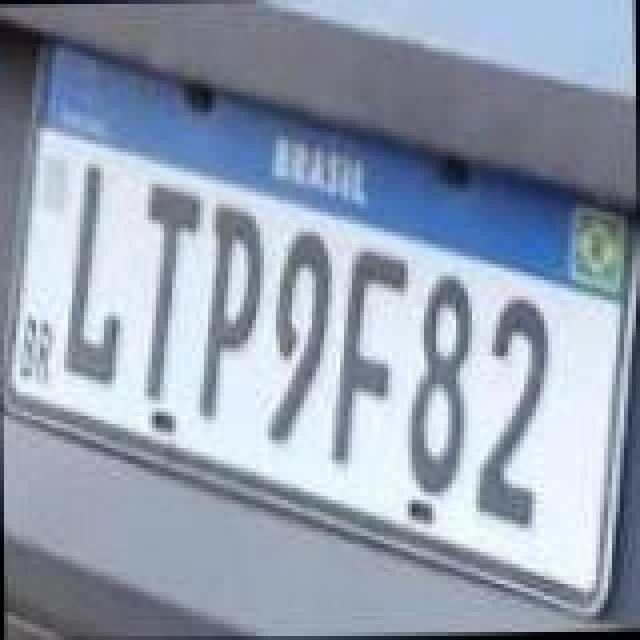2: (474, 294, 554, 526)
8: (406, 278, 478, 498)
9: (258, 226, 334, 442)
F: (324, 248, 412, 468)
L: (62, 164, 122, 388)
P: (196, 204, 268, 420)
T: (138, 182, 206, 402)
